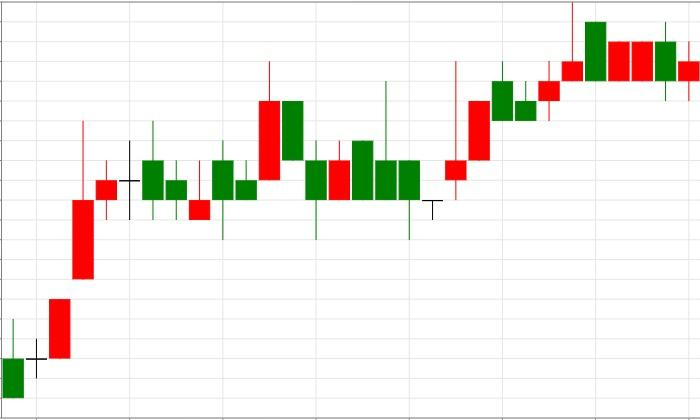shooting_star_fall: (444, 0, 583, 200)
